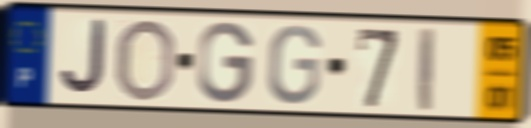7: (355, 25, 402, 110)
G: (195, 19, 258, 106), (265, 23, 324, 108)
I: (417, 24, 437, 114)
J: (57, 17, 108, 100)
O: (112, 16, 178, 104)
